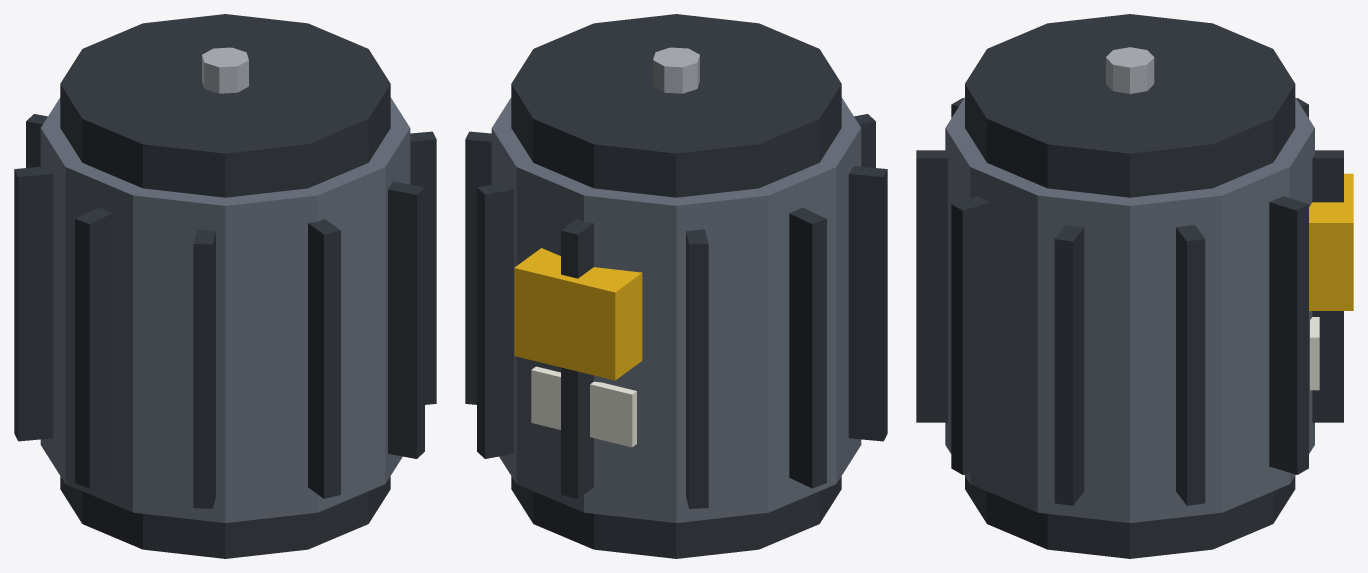
File: prop_lift_motor.glb
3 renders of one model, left to right at view 1: azimuth 30°, elevation 25°; view 2: azimuth 150°, elevation 25°; view 3: azimuth 270°, elevation 25°, orthographic.
Visible parts, largest first — view 1: prop_lift_motor; view 2: prop_lift_motor; view 3: prop_lift_motor.
Boxes of the visible parts, x1=… form: prop_lift_motor: x1=14, y1=14, x2=436, y2=558; prop_lift_motor: x1=465, y1=14, x2=887, y2=558; prop_lift_motor: x1=916, y1=14, x2=1353, y2=558.
Bounding box in the file's own units: 0.4246 × 0.49 × 0.45.
1 material, 1 textured.
